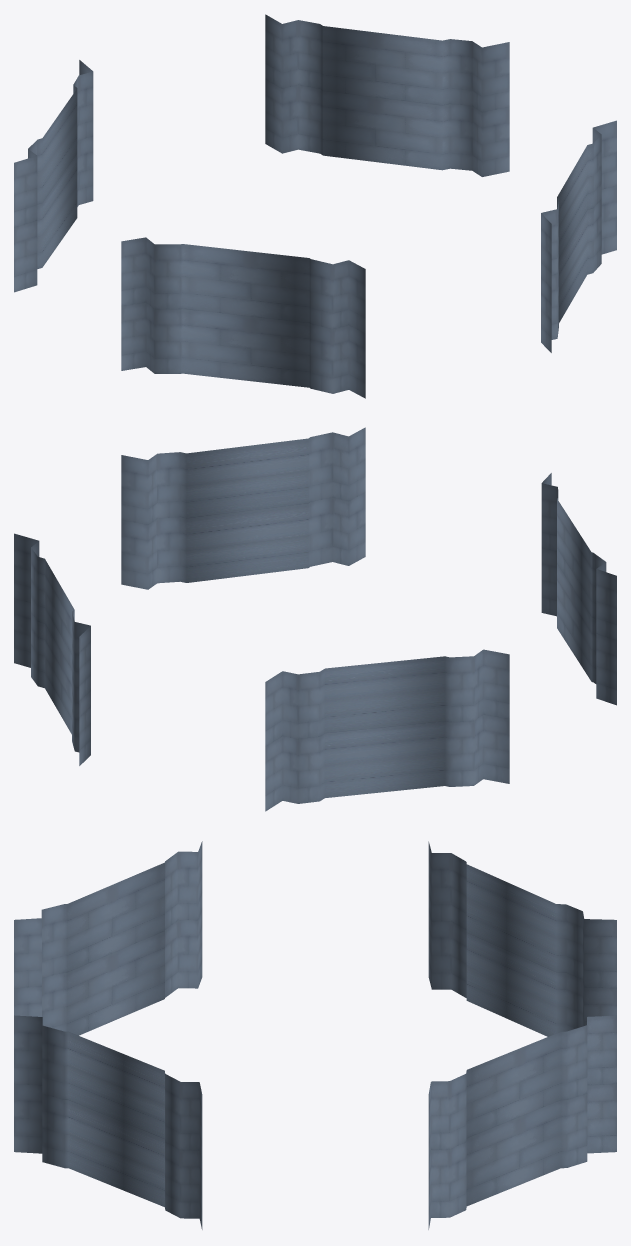
Rendered from TileDiamondRoom.fbx.
3 views of the same model, one above another, from view 1: azimuth 30°, elevation 25°; view 2: azimuth 150°, elevation 25°; view 3: azimuth 270°, elevation 25° (orthographic). The views are drawn at different scales.
Visible parts, largest first — view 1: Tile4Hallway; view 2: Tile4Hallway; view 3: Tile4Hallway.
Boxes of the visible parts, box(x1,y1,x2,y2) form: Tile4Hallway: box(14, 14, 616, 398); Tile4Hallway: box(14, 427, 616, 811); Tile4Hallway: box(14, 841, 616, 1229).
Bounding box in the file's own units: 16 × 4 × 16.
